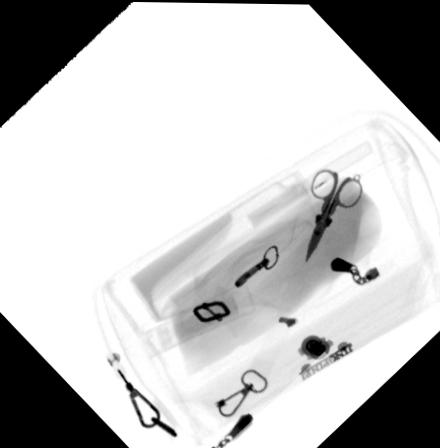Scissors: (305, 164, 365, 265)
